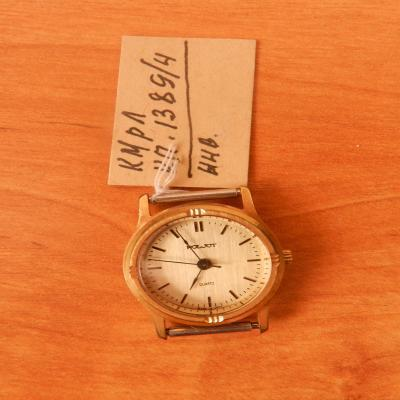technique: (123, 186, 284, 340)
